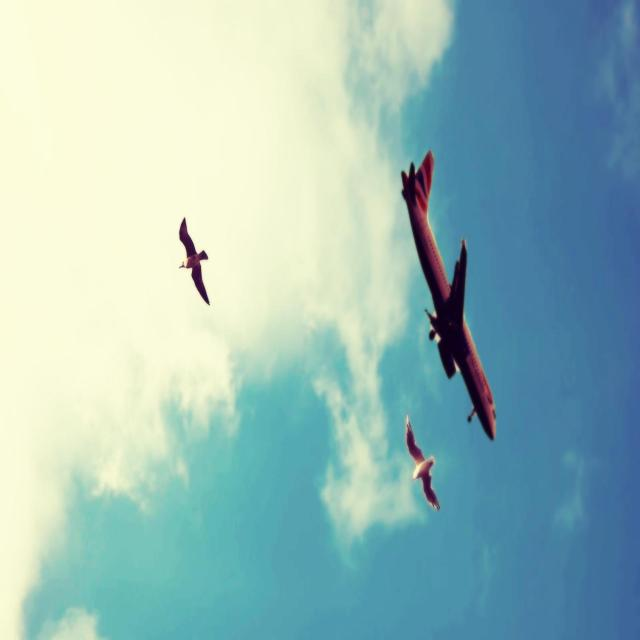airplane: (400, 149, 497, 441)
